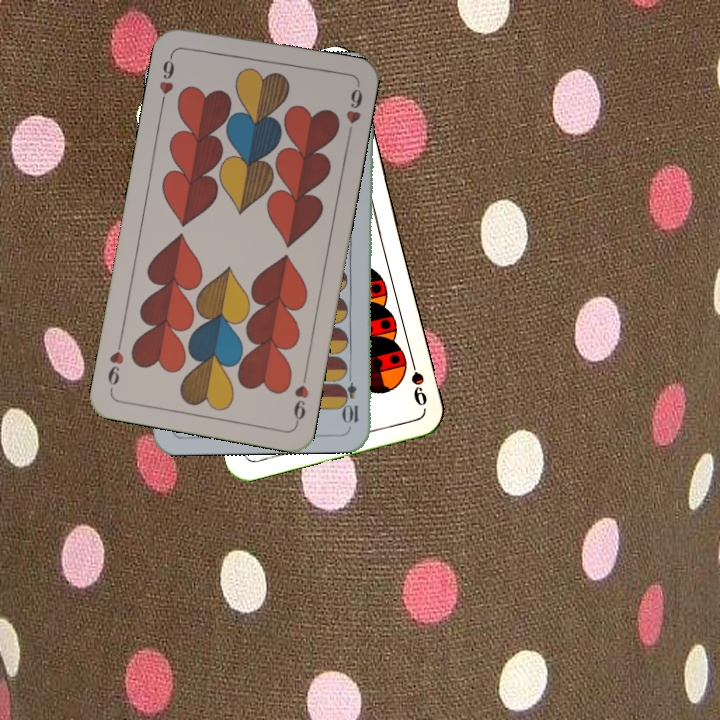E10: (342, 367, 361, 426)
H9: (289, 368, 312, 427), (155, 48, 177, 107)
S9: (405, 351, 430, 409)
